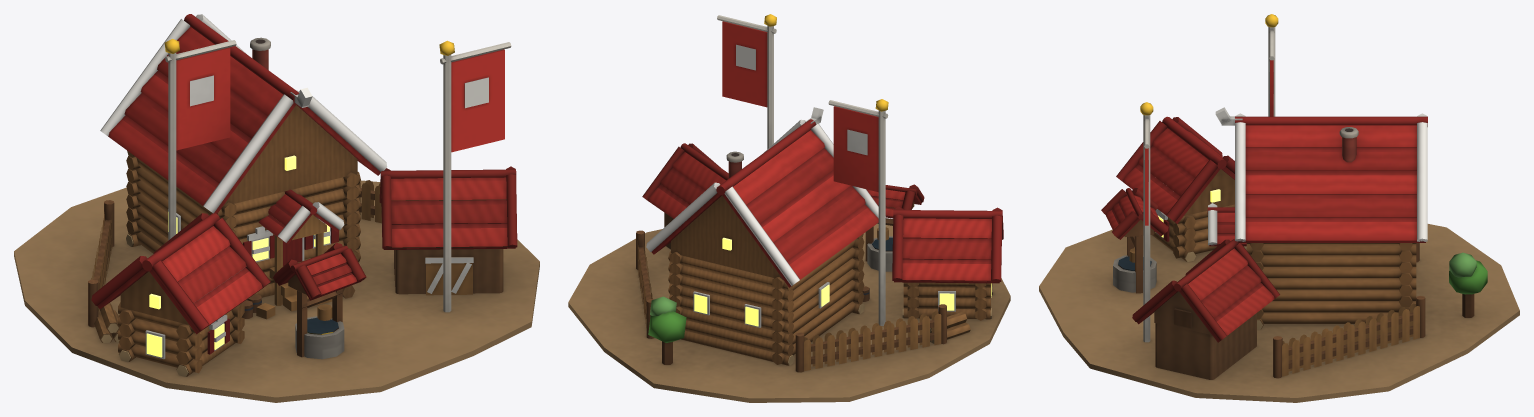
File: residence_dl2_red.glb
3 views of the same model, side by side, from view 1: azimuth 30°, elevation 25°; view 2: azimuth 150°, elevation 25°; view 3: azimuth 270°, elevation 25° (orthographic). The views are drawn at different scales.
Visible parts, largest first — view 1: residence_dl2_red; view 2: residence_dl2_red; view 3: residence_dl2_red.
Boxes of the visible parts, x1,y1,x2,y2 form: residence_dl2_red: (14,14,539,402); residence_dl2_red: (568,14,1010,402); residence_dl2_red: (1039,14,1519,402).
Size of the model in its own units: 1.55 by 0.904 by 1.61.
2 materials, 1 textured.
